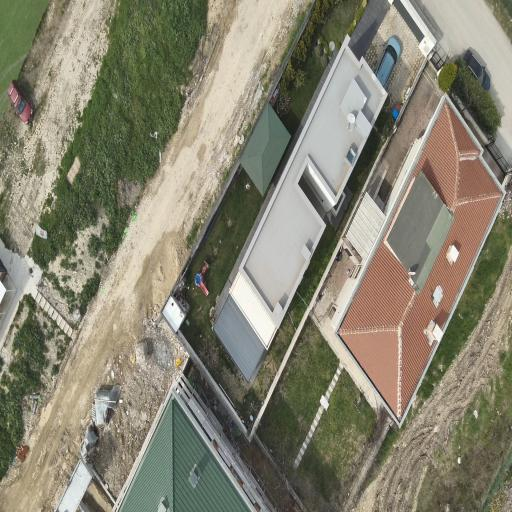car: (376, 36, 402, 87), (463, 50, 490, 91), (8, 80, 33, 124)
